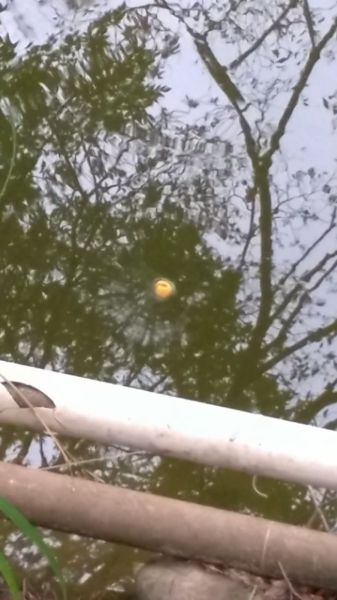eggs: (150, 274, 178, 301)
